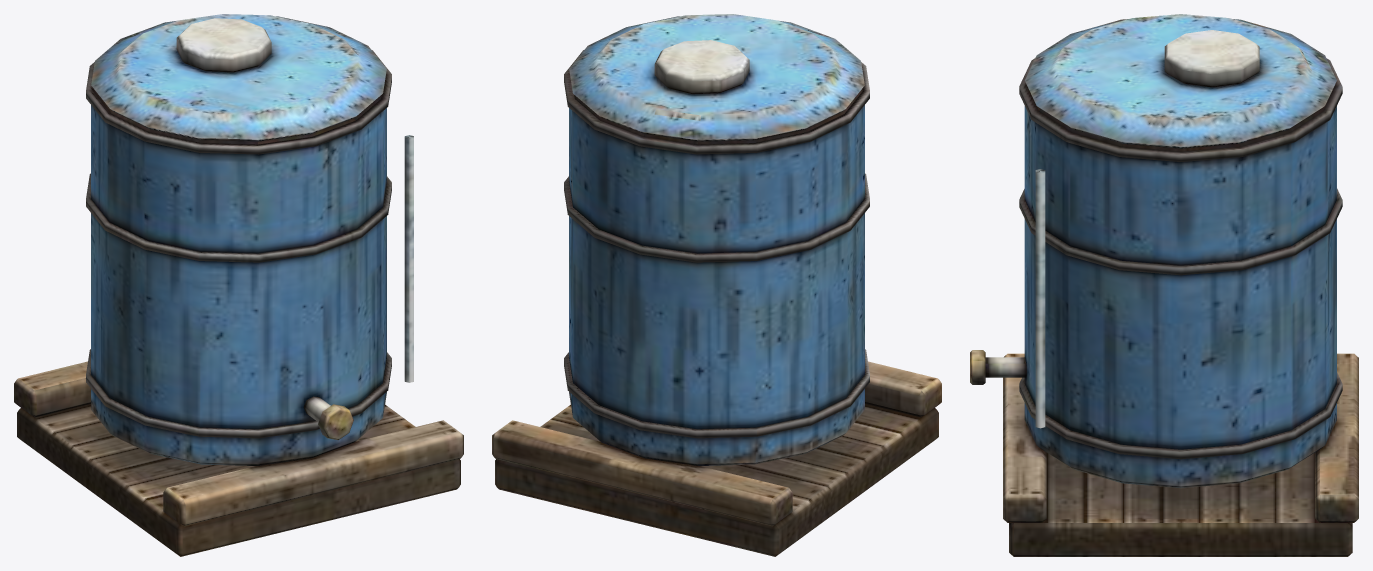
Rendered from caixa_dagua.glb.
The picture shows the model from 3 angles, left to right: view 1: azimuth 30°, elevation 25°; view 2: azimuth 150°, elevation 25°; view 3: azimuth 270°, elevation 25°; orthographic projection. The views are drawn at different scales.
Visible parts, largest first — view 1: caixa_dagua; view 2: caixa_dagua; view 3: caixa_dagua.
Boxes of the visible parts, <box> form: caixa_dagua: <box>14,14,463,556</box>; caixa_dagua: <box>492,14,941,556</box>; caixa_dagua: <box>970,14,1358,556</box>.
Size of the model in its own units: 1.1 by 1.54 by 1.24.
Materials: 1 (1 with a texture image).
